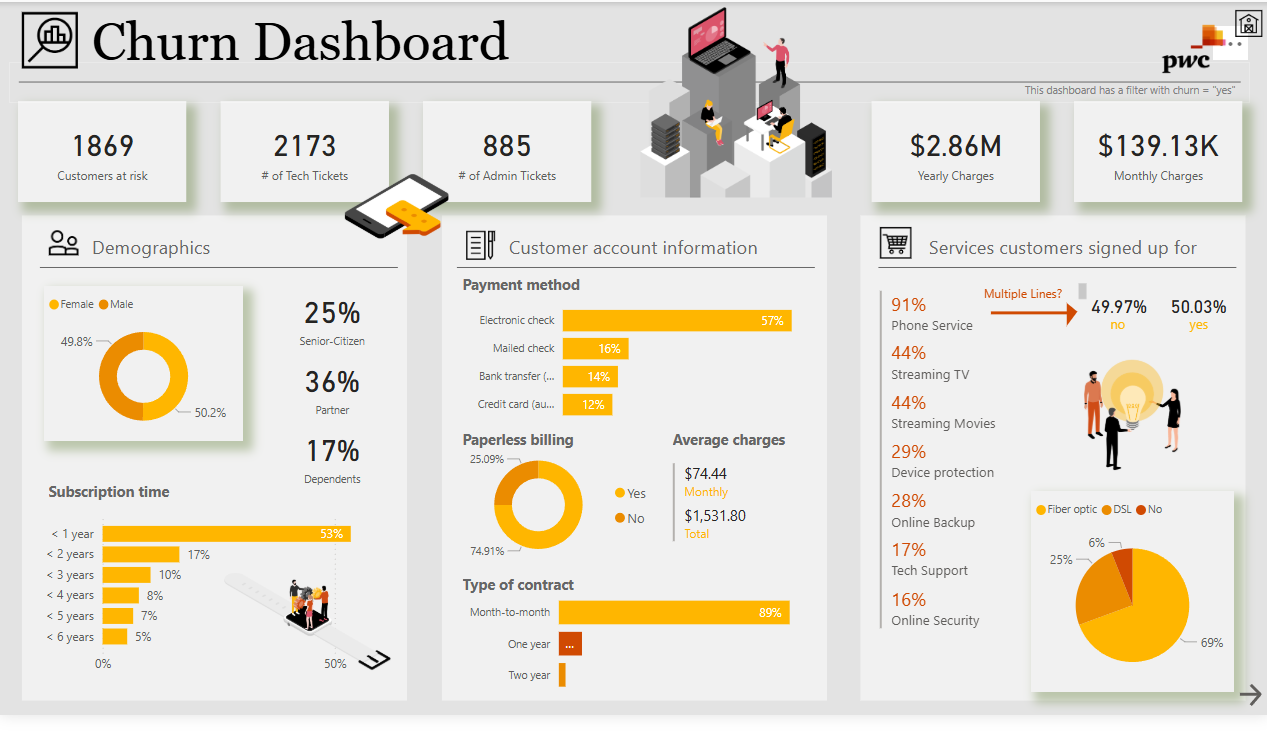

The dashboard page shown, as its layout file describes it:
{"tool":"powerbi","page":{"name":"Churn","canvas":[1280,720],"ordinal":1},"visuals":[{"type":"textbox","box":[87.7,4.9,1173.8,75],"z":0},{"type":"basicShape","box":[8.7,60.7,1253,40.5],"z":1000},{"type":"basicShape","box":[18.3,210,396.8,499.9],"z":2000},{"type":"card","fields":{"Values":["CountNonNull(churn.customerID)"]},"box":[18.5,99.4,170,102.3],"z":3000},{"type":"basicShape","box":[441.6,210,396.8,499.9],"z":4000},{"type":"basicShape","box":[864.9,210,396.8,499.9],"z":5000},{"type":"textbox","box":[508.5,228.6,314.9,35.6],"z":6000},{"type":"basicShape","box":[450.7,248.9,381.4,39.5],"z":7000},{"type":"image","box":[461.3,226.3,47.2,39.5],"z":8000},{"type":"textbox","box":[932.7,228.6,314.9,35.6],"z":9000},{"type":"basicShape","box":[877.4,248.9,381.4,39.5],"z":10000},{"type":"textbox","box":[88,228.6,314.9,35.6],"z":11000},{"type":"basicShape","box":[30.2,248.9,381.4,39.5],"z":12000},{"type":"image","box":[883.2,220.6,42.4,43.3],"z":13000},{"type":"image","box":[43.3,220.6,40.5,44.3],"z":14000},{"type":"donutChart","fields":{"Category":["churn.gender"],"Y":["CountNonNull(churn.gender)"]},"box":[43.8,286,201.3,156.6],"z":15000},{"type":"card","fields":{"Values":["churn.SeniorCitizen in %"]},"box":[271.4,268.7,128.1,100.2],"z":16000},{"type":"card","fields":{"Values":["churn.Partner in %"]},"box":[271.4,338.1,128.4,100.2],"z":17000},{"type":"card","fields":{"Values":["churn.Dependents in %"]},"box":[271.4,407.5,128.4,100.2],"z":18000},{"type":"clusteredBarChart","fields":{"Category":["churn.Contract"],"Y":["CountNonNull(churn.Contract)"]},"box":[461.3,577.9,370.8,131.9],"z":19000},{"type":"clusteredBarChart","fields":{"Y":["CountNonNull(churn.PaymentMethod)"],"Category":["churn.PaymentMethod"]},"box":[461.3,286,370.8,148.3],"z":20000},{"type":"textbox","box":[461.3,269.7,314.9,35.6],"z":21000},{"type":"textbox","box":[461.3,424.7,204.2,35.6],"z":22000},{"type":"donutChart","fields":{"Category":["churn.PaperlessBilling"],"Y":["CountNonNull(churn.PaperlessBilling)"]},"box":[461.3,438.2,204.2,139.7],"z":23000},{"type":"multiRowCard","fields":{"Values":["Avg(churn.MonthlyCharges)","Avg(churn.TotalCharges)"]},"box":[674.2,460.4,149.3,95.3],"z":24000},{"type":"textbox","box":[461.3,572.1,314.9,35.6],"z":25000},{"type":"pieChart","fields":{"Category":["churn.InternetService"],"Y":["Divide(CountNonNull(churn.InternetService), ScopedEval(CountNonNull(churn.InternetService), []))"]},"box":[1040.4,492.9,205.5,203.6],"z":26000},{"type":"card","fields":{"Values":["churn.Multiple Lines in %"]},"box":[1172.8,276.4,72.2,62.6],"z":27000},{"type":"card","fields":{"Values":["churn.Multiple lines no in %"]},"box":[1093.1,276.4,72.2,61.6],"z":28000},{"type":"textbox","box":[971.7,278.2,129.4,27.2],"z":29000},{"type":"textbox","box":[1092.2,311,73.2,35.6],"z":30000},{"type":"textbox","box":[1172.8,311,73.2,35.6],"z":31000},{"type":"textbox","box":[674.2,424.7,148.3,35.6],"z":32000},{"type":"multiRowCard","fields":{"Values":["churn.Phone Service in %","churn.Streaming TV in %","churn.Streaming Movies in %","churn.Device protection in %","churn.Online Bacup in %","churn.Tech Support in %","churn.Online Sec. in %"]},"box":[882.2,286,165.3,414.3],"z":33000},{"type":"basicShape","box":[990.2,300.5,97.3,28.2],"z":34000},{"type":"basicShape","box":[1063.1,296.7,37.9,32.1],"z":35000},{"type":"clusteredBarChart","fields":{"Y":["CountNonNull(churn.Churn)"],"Category":["churn.Loyalty"]},"box":[37,507.7,365.7,179],"z":36000},{"type":"textbox","box":[43.8,478.5,314.2,35],"z":37000},{"type":"image","box":[1048.2,356.5,190.9,121.8],"z":38000},{"type":"actionButton","box":[1246.1,680.1,31.6,39.5],"z":39000},{"type":"image","box":[16.6,4.9,67.2,68.2],"z":40000},{"type":"card","fields":{"Values":["Sum(churn.MonthlyCharges)"]},"box":[1083.9,99.4,170,102.3],"z":41000},{"type":"image","box":[634.9,0,216.9,202.2],"z":42000},{"type":"image","box":[221.1,556.2,178.3,139.3],"z":43000},{"type":"card","fields":{"Values":["Sum(churn.numTechTickets)"]},"box":[222.8,99.4,170,102.3],"z":44000},{"type":"card","fields":{"Values":["Sum(churn.numAdminTickets)"]},"box":[427.1,99.4,170,102.3],"z":45000},{"type":"card","fields":{"Values":["Sum(churn.TotalCharges)"]},"box":[879.7,99.4,170,102.3],"z":46000},{"type":"textbox","box":[897,72.3,355.9,30.5],"z":47000},{"type":"image","box":[341.9,151,115.9,108.1],"z":48000},{"type":"image","box":[1242,0,38,42.9],"z":49000},{"type":"image","box":[1129,0,151,94.5],"z":50000}]}

Visuals, with their boxes on the page's 1280x720 design canvas (x1, y1, x2, y2). These are canvas units, not pixel positions in the 1267x751 screenshot, which may show the page scaled, cropped or inside an application window:
textbox: l=88, t=5, r=1262, b=80
basicShape: l=9, t=61, r=1262, b=101
basicShape: l=18, t=210, r=415, b=710
card - CountNonNull(churn.customerID): l=18, t=99, r=188, b=202
basicShape: l=442, t=210, r=838, b=710
basicShape: l=865, t=210, r=1262, b=710
textbox: l=508, t=229, r=823, b=264
basicShape: l=451, t=249, r=832, b=288
image: l=461, t=226, r=508, b=266
textbox: l=933, t=229, r=1248, b=264
basicShape: l=877, t=249, r=1259, b=288
textbox: l=88, t=229, r=403, b=264
basicShape: l=30, t=249, r=412, b=288
image: l=883, t=221, r=926, b=264
image: l=43, t=221, r=84, b=265
donutChart - churn.gender x CountNonNull(churn.gender): l=44, t=286, r=245, b=443
card - churn.SeniorCitizen in %: l=271, t=269, r=400, b=369
card - churn.Partner in %: l=271, t=338, r=400, b=438
card - churn.Dependents in %: l=271, t=408, r=400, b=508
clusteredBarChart - churn.Contract x CountNonNull(churn.Contract): l=461, t=578, r=832, b=710
clusteredBarChart - CountNonNull(churn.PaymentMethod) x churn.PaymentMethod: l=461, t=286, r=832, b=434
textbox: l=461, t=270, r=776, b=305
textbox: l=461, t=425, r=666, b=460
donutChart - churn.PaperlessBilling x CountNonNull(churn.PaperlessBilling): l=461, t=438, r=666, b=578
multiRowCard - Avg(churn.MonthlyCharges) x Avg(churn.TotalCharges): l=674, t=460, r=824, b=556
textbox: l=461, t=572, r=776, b=608
pieChart - churn.InternetService x Divide(CountNonNull(churn.InternetService), ScopedEval(CountNonNull(churn.InternetService), [])): l=1040, t=493, r=1246, b=696
card - churn.Multiple Lines in %: l=1173, t=276, r=1245, b=339
card - churn.Multiple lines no in %: l=1093, t=276, r=1165, b=338
textbox: l=972, t=278, r=1101, b=305
textbox: l=1092, t=311, r=1165, b=347
textbox: l=1173, t=311, r=1246, b=347
textbox: l=674, t=425, r=822, b=460
multiRowCard - churn.Phone Service in % x churn.Streaming TV in %: l=882, t=286, r=1048, b=700
basicShape: l=990, t=300, r=1088, b=329
basicShape: l=1063, t=297, r=1101, b=329
clusteredBarChart - CountNonNull(churn.Churn) x churn.Loyalty: l=37, t=508, r=403, b=687
textbox: l=44, t=478, r=358, b=514
image: l=1048, t=356, r=1239, b=478
actionButton: l=1246, t=680, r=1278, b=720
image: l=17, t=5, r=84, b=73
card - Sum(churn.MonthlyCharges): l=1084, t=99, r=1254, b=202
image: l=635, t=0, r=852, b=202
image: l=221, t=556, r=399, b=696
card - Sum(churn.numTechTickets): l=223, t=99, r=393, b=202
card - Sum(churn.numAdminTickets): l=427, t=99, r=597, b=202
card - Sum(churn.TotalCharges): l=880, t=99, r=1050, b=202
textbox: l=897, t=72, r=1253, b=103
image: l=342, t=151, r=458, b=259
image: l=1242, t=0, r=1280, b=43
image: l=1129, t=0, r=1280, b=94
